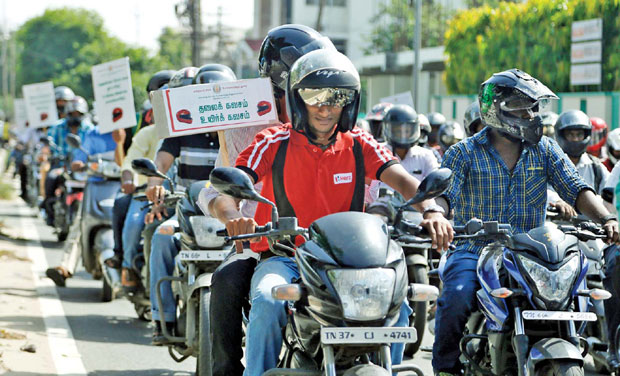helmet: (288, 48, 369, 140), (476, 65, 561, 144), (384, 101, 421, 149), (556, 102, 593, 150)
